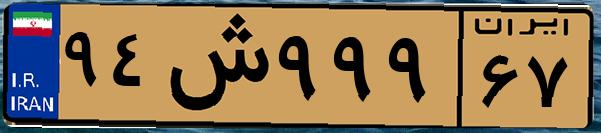4: (110, 28, 158, 98)
6: (475, 38, 525, 113)
7: (525, 38, 570, 115)
9: (270, 28, 330, 110), (385, 28, 445, 110), (330, 28, 385, 110), (57, 26, 110, 100)
ش: (158, 12, 270, 120)
